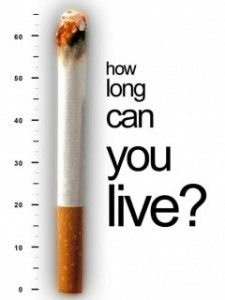cigarette: (51, 8, 93, 298)
